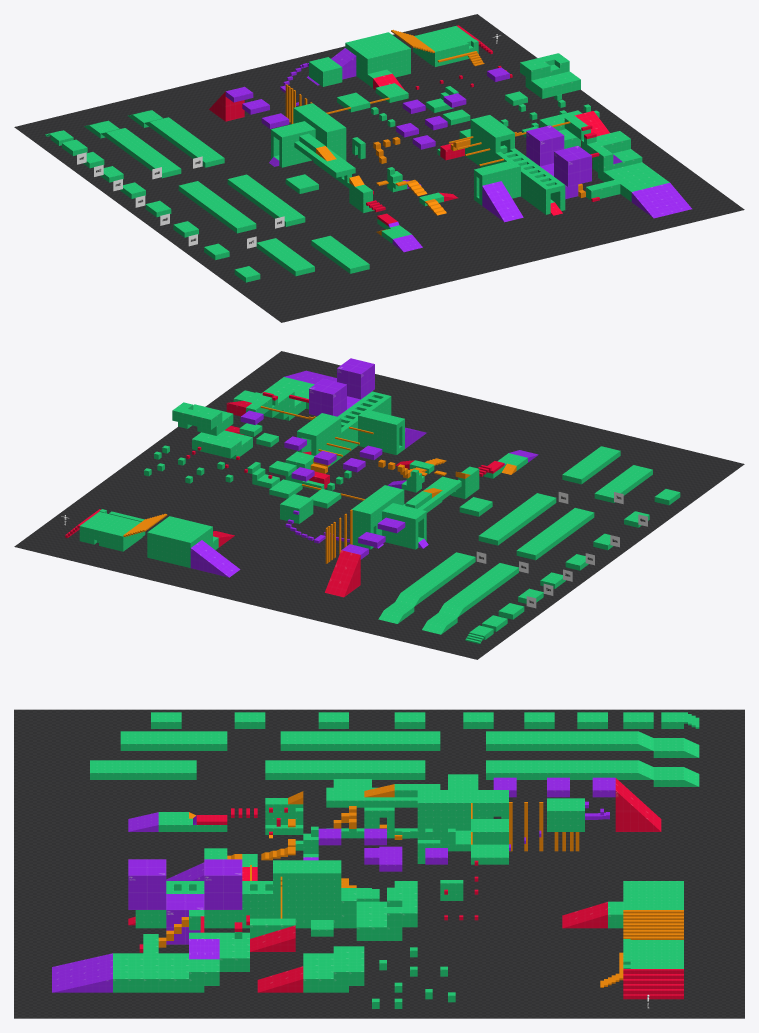
Rendered from parkour-scene.glb.
3 views of the same model, one above another, from view 1: azimuth 30°, elevation 25°; view 2: azimuth 150°, elevation 25°; view 3: azimuth 270°, elevation 25° (orthographic). The views are drawn at different scales.
Parts seen in each view (by area): view 1: Floor.059, Ramp4x1_Purple (×4), Cube1x1_Purple (×2), Ramp3x1_Red; view 2: Floor.059, Cube1x1_Purple (×2), Ramp3x1_Red, Ramp4x1_Purple; view 3: Floor.059, Cube1x1_Purple (×3), Ramp3x1_Red (×4), Ramp4x1_Purple (×2).
Part boxes in pixels (x1,y1,x2,y2): Floor.059: (14, 14, 744, 322); Ramp4x1_Purple (×4): (307, 48, 691, 222); Cube1x1_Purple (×2): (526, 125, 591, 186); Ramp3x1_Red: (209, 91, 244, 121); Floor.059: (14, 351, 744, 659); Cube1x1_Purple (×2): (309, 358, 374, 416); Ramp3x1_Red: (325, 550, 360, 597); Ramp4x1_Purple: (190, 540, 240, 577); Floor.059: (14, 709, 744, 1018); Cube1x1_Purple (×3): (128, 859, 242, 944); Ramp3x1_Red (×4): (250, 778, 661, 992); Ramp4x1_Purple (×2): (52, 953, 112, 992).
Size of what is drawn, in the model's own units: 96 by 12.62 by 96.
10 materials, 10 textured.
